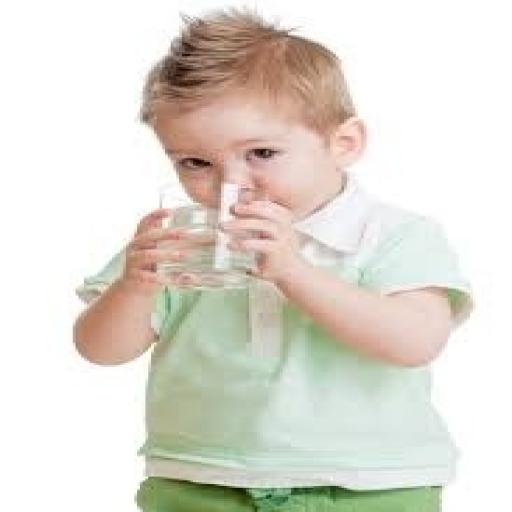drinking: (151, 180, 269, 290)
